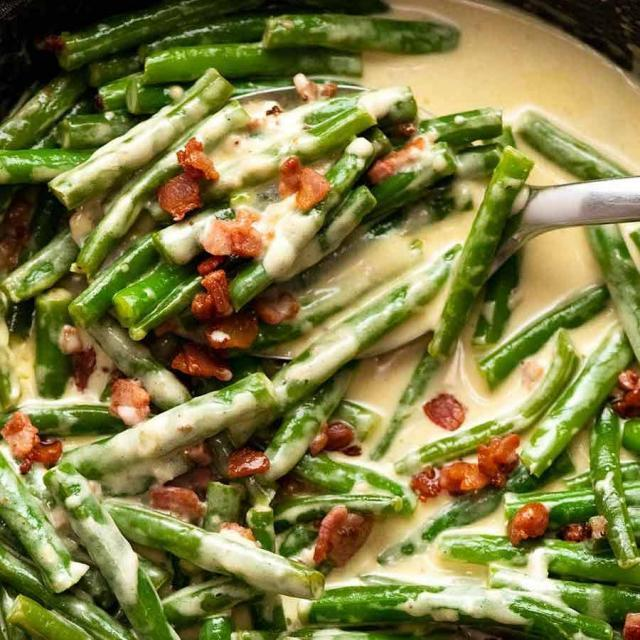Beans: (0, 0, 639, 638)
